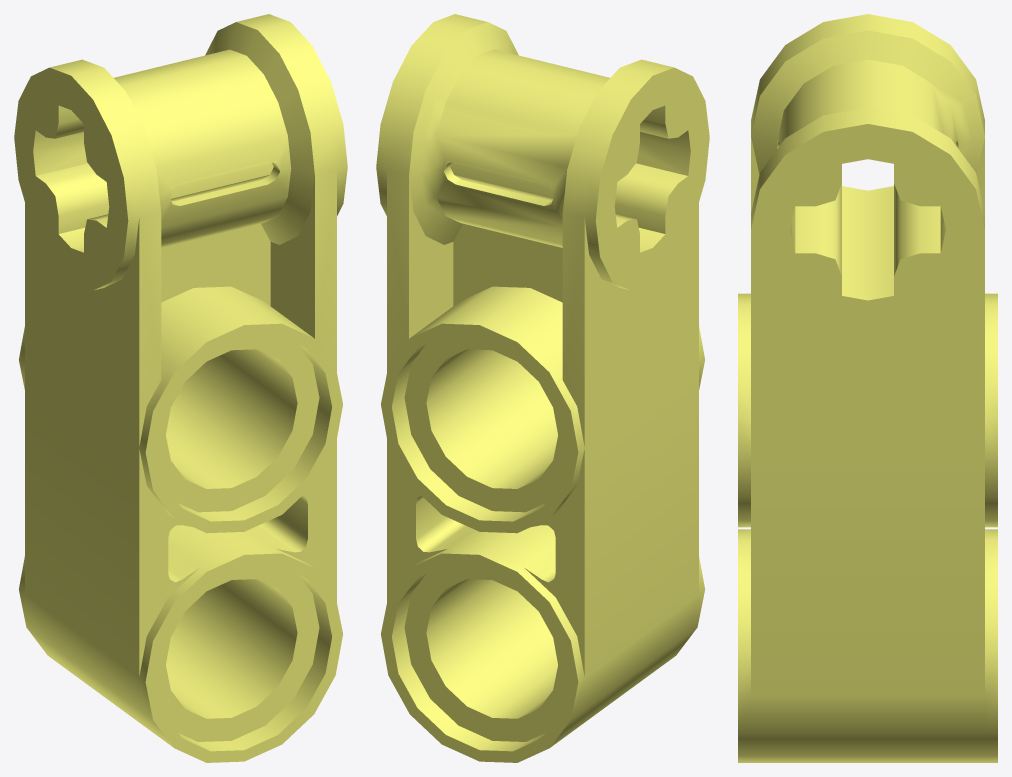
The picture shows the model from 3 angles, left to right: view 1: azimuth 30°, elevation 25°; view 2: azimuth 150°, elevation 25°; view 3: azimuth 270°, elevation 25°; orthographic projection. The views are drawn at different scales.
Parts seen in each view (by area): view 1: 42003.dat; view 2: 42003.dat; view 3: 42003.dat.
Part boxes in pixels (x1,y1,x2,y2): 42003.dat: [14, 14, 347, 762]; 42003.dat: [376, 14, 709, 762]; 42003.dat: [738, 14, 997, 762].
Size of the model in its own units: 0.008 by 0.0232 by 0.008.
